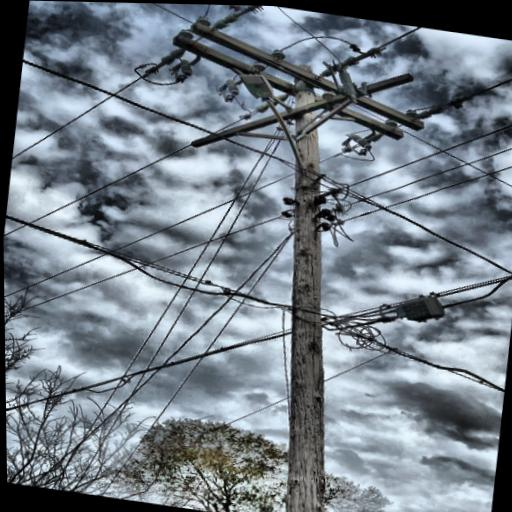insulator: (193, 15, 213, 29), (320, 90, 339, 104), (176, 28, 196, 41), (268, 49, 288, 62), (249, 61, 269, 73), (382, 116, 399, 130), (403, 107, 420, 119)
pole: (227, 52, 405, 512)
street light: (225, 71, 328, 192)
